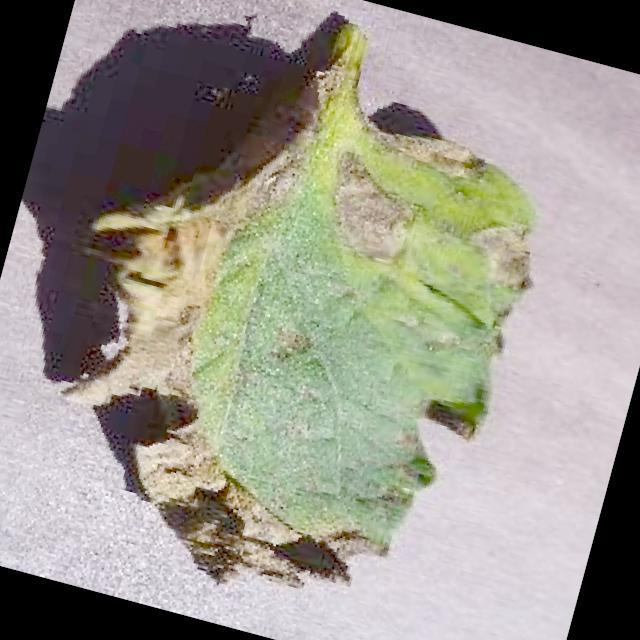Tomato Early blight leaf: (13, 65, 554, 640)
